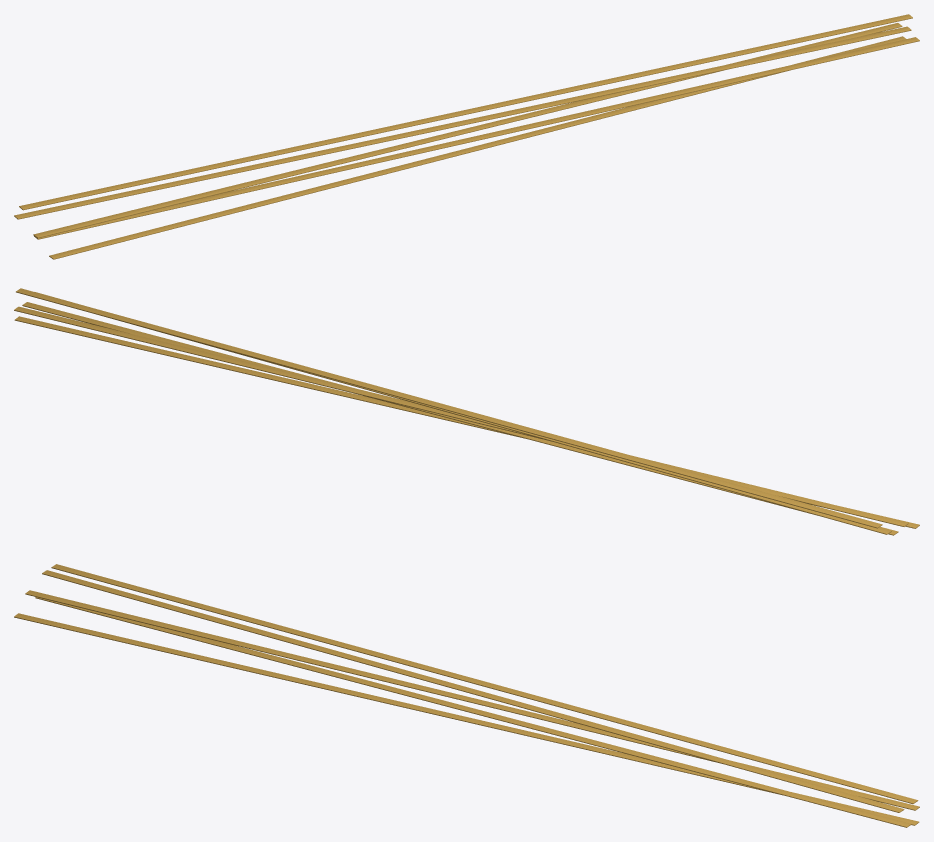
The model's file is PIS-JUN-002_anim.glb.
The picture shows the model from 3 angles, top to bottom: view 1: azimuth 30°, elevation 25°; view 2: azimuth 150°, elevation 25°; view 3: azimuth 330°, elevation 25°; orthographic projection. The views are drawn at different scales.
Parts seen in each view (by area): view 1: PIS-JUN-002_anim3, PIS-JUN-002_anim4, PIS-JUN-002_anim1, PIS-JUN-002_anim2, PIS-JUN-002_anim0; view 2: PIS-JUN-002_anim4, PIS-JUN-002_anim2, PIS-JUN-002_anim0, PIS-JUN-002_anim1, PIS-JUN-002_anim3; view 3: PIS-JUN-002_anim4, PIS-JUN-002_anim3, PIS-JUN-002_anim1, PIS-JUN-002_anim2, PIS-JUN-002_anim0.
Boxes of the visible parts, bbox=[...] form: PIS-JUN-002_anim3: bbox=[14, 26, 911, 219]; PIS-JUN-002_anim4: bbox=[19, 14, 912, 210]; PIS-JUN-002_anim1: bbox=[34, 37, 919, 239]; PIS-JUN-002_anim2: bbox=[33, 23, 902, 238]; PIS-JUN-002_anim0: bbox=[49, 36, 905, 259]; PIS-JUN-002_anim4: bbox=[16, 288, 882, 528]; PIS-JUN-002_anim2: bbox=[14, 306, 908, 526]; PIS-JUN-002_anim0: bbox=[14, 316, 919, 528]; PIS-JUN-002_anim1: bbox=[22, 302, 898, 535]; PIS-JUN-002_anim3: bbox=[35, 292, 891, 534]; PIS-JUN-002_anim4: bbox=[51, 564, 918, 803]; PIS-JUN-002_anim3: bbox=[42, 570, 904, 812]; PIS-JUN-002_anim1: bbox=[35, 597, 911, 827]; PIS-JUN-002_anim2: bbox=[25, 590, 919, 810]; PIS-JUN-002_anim0: bbox=[14, 613, 919, 825].
Bounding box in the file's own units: 3.02 × 0.0829 × 0.2283.
Materials: 1 (1 with a texture image).
